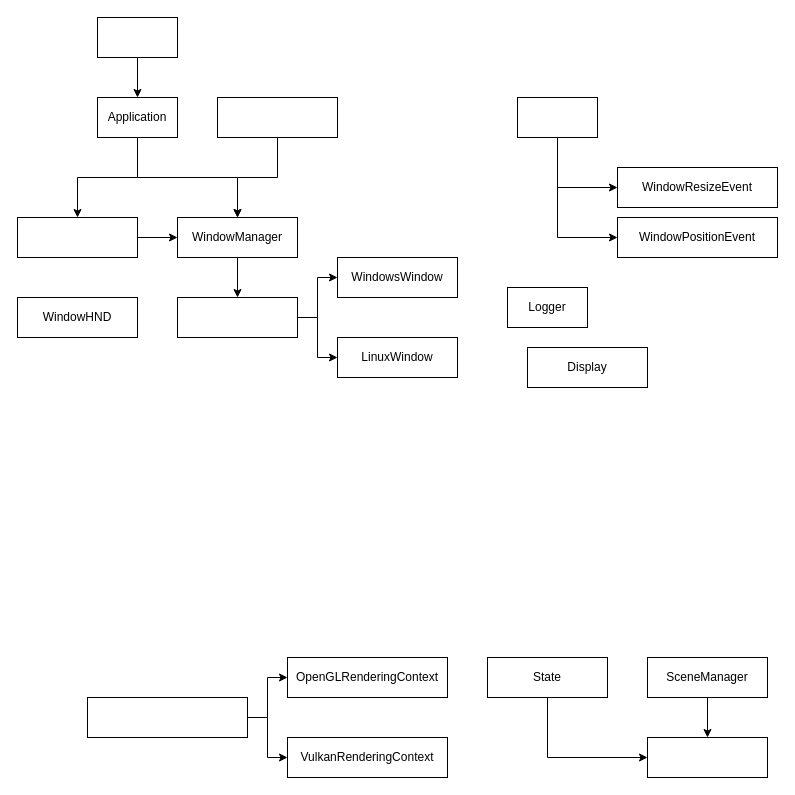
This 795x795 diagram has some shape labels left out. Each missing label, with the centre of its shape:
"Event" belongs at [557,117].
"Main" belongs at [137,37].
"RenderContext" belongs at [167,717].
"Scene" belongs at [707,757].
"ThreadSpawner" belongs at [77,237].
"WindowConfig" belongs at [277,117].
"WindowPlatform" belongs at [237,317].
